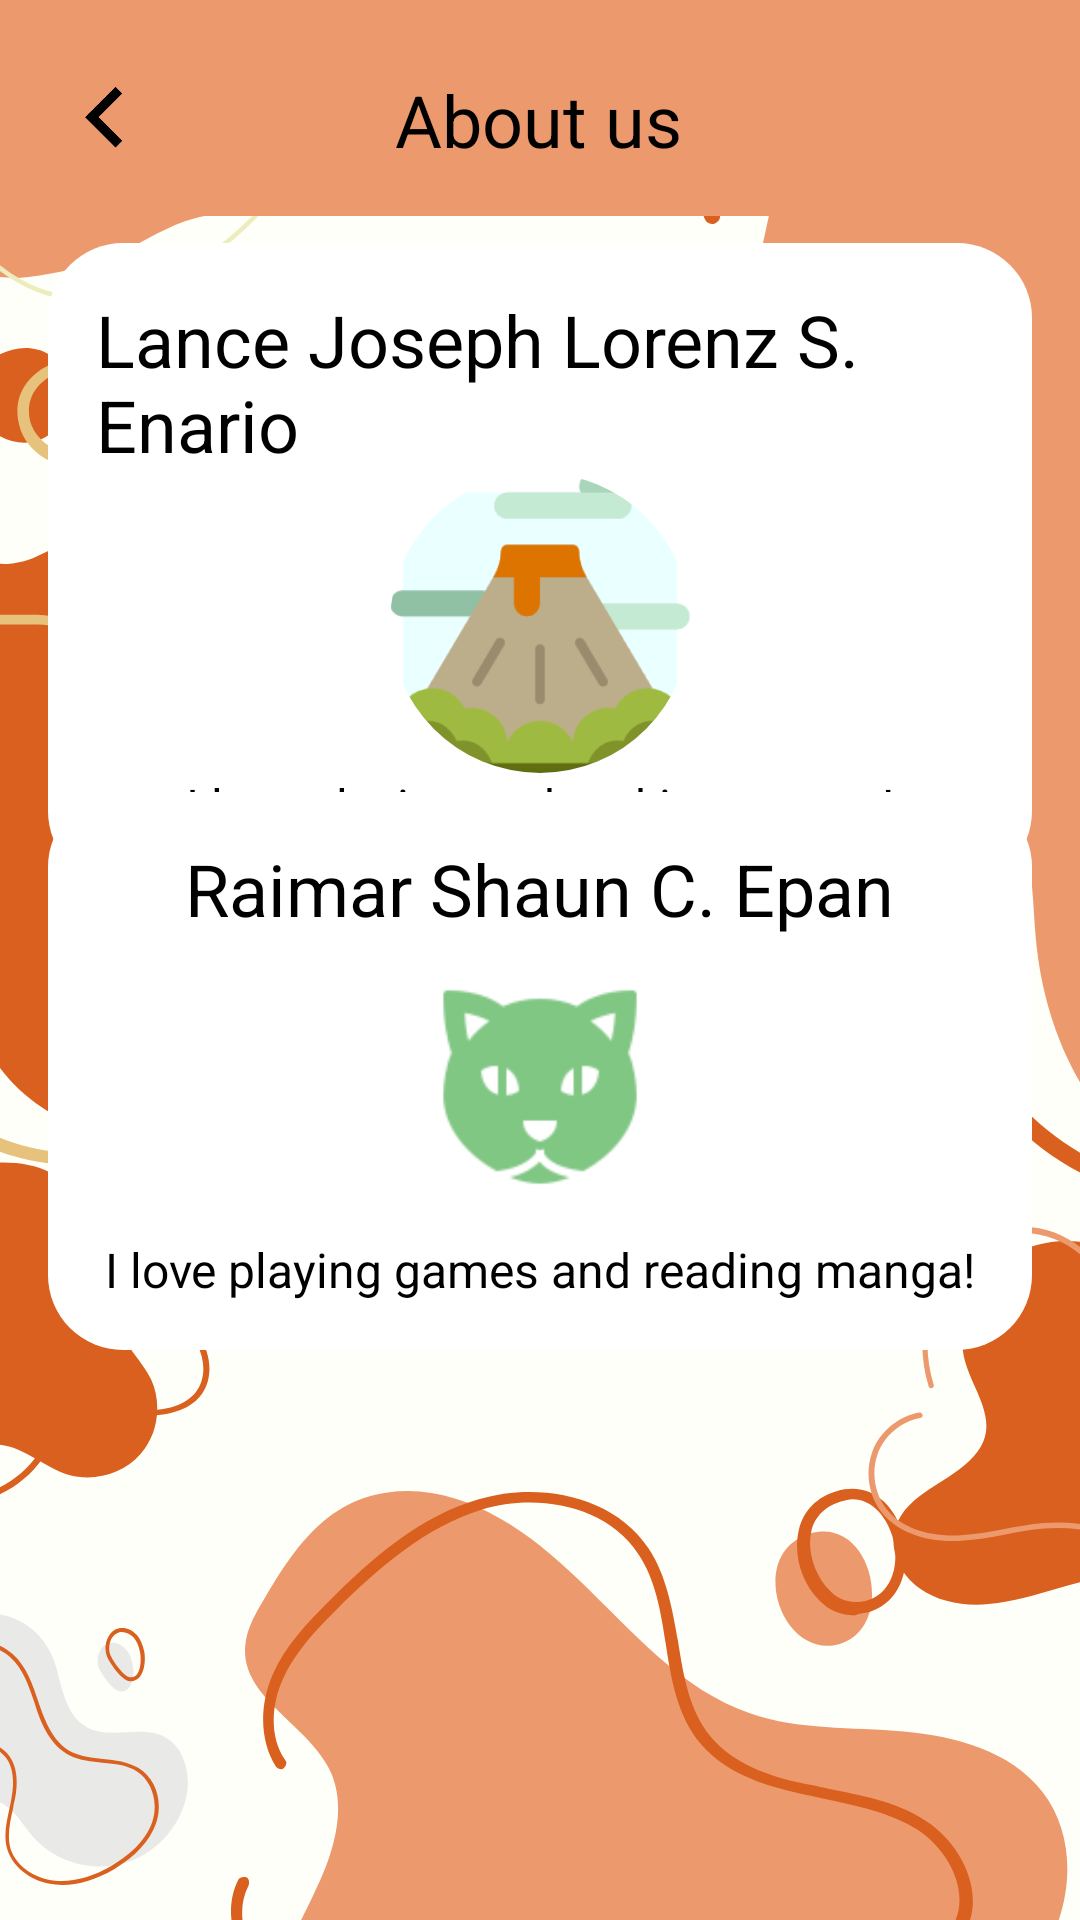

Named icons in this screenshot (1080×1920) and their bounding boxes, (x1, y1, x2, y2):
cat: (443, 990, 637, 1184)
volcano profile: (391, 479, 690, 773)
